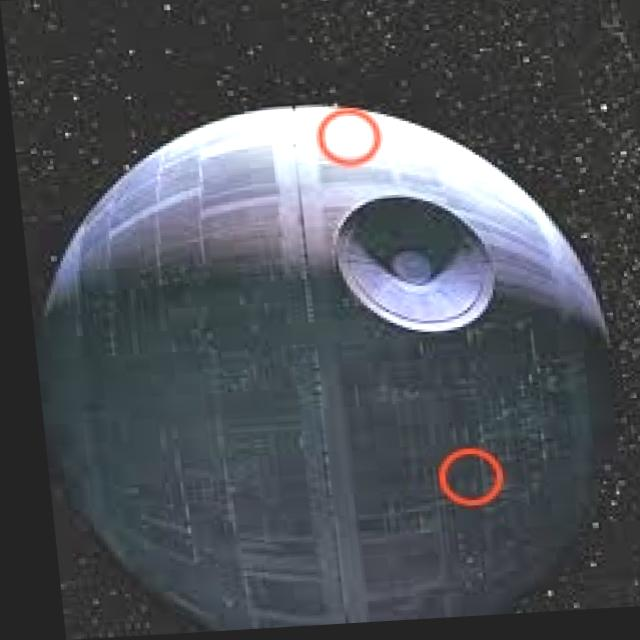deathStar: (14, 97, 617, 637)
